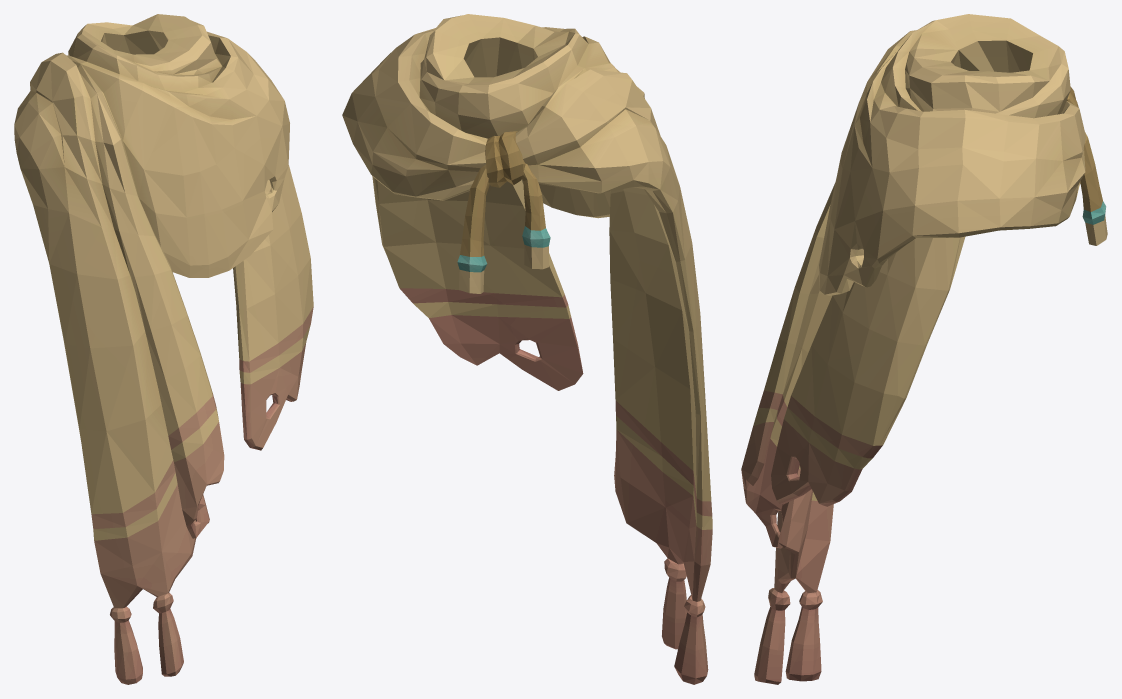
File: CharSkyKid_Wing_AP21LinenScarf.glb
The picture shows the model from 3 angles, left to right: view 1: azimuth 30°, elevation 25°; view 2: azimuth 150°, elevation 25°; view 3: azimuth 270°, elevation 25°; orthographic projection. The views are drawn at different scales.
Visible parts, largest first — view 1: CharSkyKid_Wing_AP21LinenScarf; view 2: CharSkyKid_Wing_AP21LinenScarf; view 3: CharSkyKid_Wing_AP21LinenScarf.
Part boxes in pixels (x1=…): CharSkyKid_Wing_AP21LinenScarf: x1=14, y1=14, x2=313, y2=684; CharSkyKid_Wing_AP21LinenScarf: x1=342, y1=14, x2=712, y2=684; CharSkyKid_Wing_AP21LinenScarf: x1=741, y1=14, x2=1107, y2=684.
Bounding box in the file's own units: 4.71 × 9.96 × 4.8.
1 material, 1 textured.
